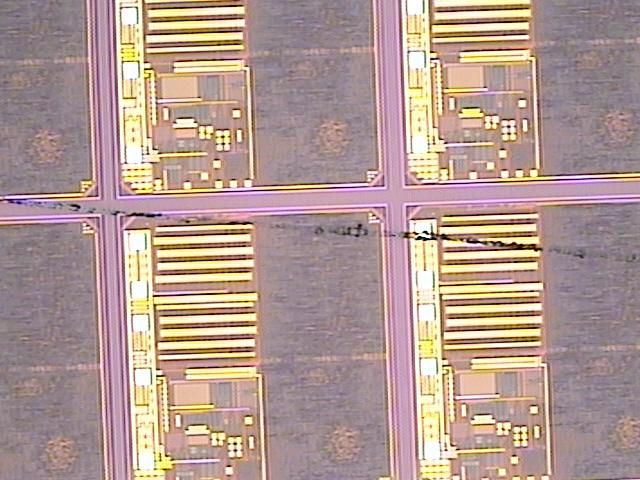SCRATCH: (1, 189, 640, 269)
